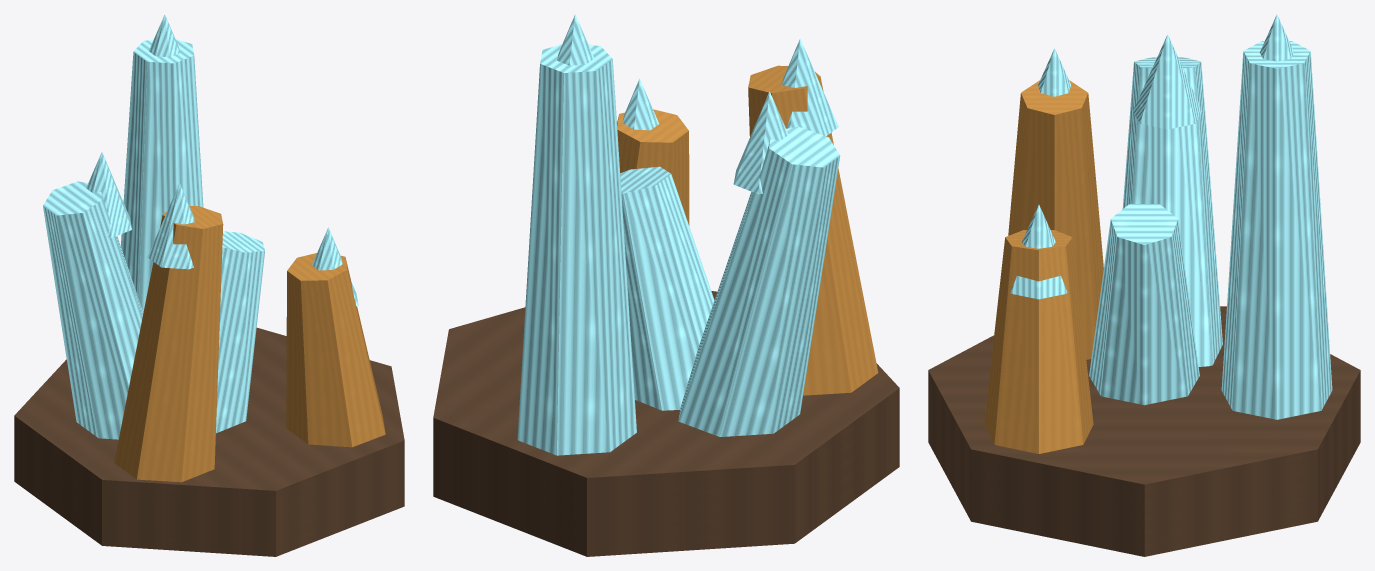
The model's file is atlas100-s013-a04.lod1.glb.
3 views of the same model, side by side, from view 1: azimuth 30°, elevation 25°; view 2: azimuth 150°, elevation 25°; view 3: azimuth 270°, elevation 25° (orthographic). The views are drawn at different scales.
Parts seen in each view (by area): view 1: atlas100-s013-a04:part-000, atlas100-s013-a04:part-003, atlas100-s013-a04:part-009, atlas100-s013-a04:part-007, atlas100-s013-a04:part-005, atlas100-s013-a04:part-001, atlas100-s013-a04:part-004, atlas100-s013-a04:part-010, atlas100-s013-a04:part-008, atlas100-s013-a04:part-006; view 2: atlas100-s013-a04:part-000, atlas100-s013-a04:part-005, atlas100-s013-a04:part-009, atlas100-s013-a04:part-001, atlas100-s013-a04:part-003, atlas100-s013-a04:part-007, atlas100-s013-a04:part-004, atlas100-s013-a04:part-010, atlas100-s013-a04:part-006, atlas100-s013-a04:part-008; view 3: atlas100-s013-a04:part-000, atlas100-s013-a04:part-005, atlas100-s013-a04:part-007, atlas100-s013-a04:part-001, atlas100-s013-a04:part-003, atlas100-s013-a04:part-009, atlas100-s013-a04:part-010, atlas100-s013-a04:part-008, atlas100-s013-a04:part-004, atlas100-s013-a04:part-006.
Part boxes in pixels (<box>): atlas100-s013-a04:part-000: <box>14,327,404,556</box>; atlas100-s013-a04:part-003: <box>114,206,223,482</box>; atlas100-s013-a04:part-009: <box>43,181,143,439</box>; atlas100-s013-a04:part-007: <box>286,253,385,447</box>; atlas100-s013-a04:part-005: <box>121,39,203,312</box>; atlas100-s013-a04:part-001: <box>216,231,264,433</box>; atlas100-s013-a04:part-004: <box>147,183,194,269</box>; atlas100-s013-a04:part-010: <box>86,152,131,237</box>; atlas100-s013-a04:part-008: <box>312,227,358,306</box>; atlas100-s013-a04:part-006: <box>149,14,179,57</box>; atlas100-s013-a04:part-000: <box>433,291,899,556</box>; atlas100-s013-a04:part-005: <box>517,44,636,455</box>; atlas100-s013-a04:part-009: <box>678,126,840,436</box>; atlas100-s013-a04:part-001: <box>620,166,714,410</box>; atlas100-s013-a04:part-003: <box>748,65,878,395</box>; atlas100-s013-a04:part-007: <box>617,109,689,225</box>; atlas100-s013-a04:part-004: <box>782,38,838,136</box>; atlas100-s013-a04:part-010: <box>733,91,788,194</box>; atlas100-s013-a04:part-006: <box>557,14,594,65</box>; atlas100-s013-a04:part-008: <box>622,79,659,130</box>; atlas100-s013-a04:part-000: <box>928,306,1360,556</box>; atlas100-s013-a04:part-005: <box>1221,41,1332,419</box>; atlas100-s013-a04:part-007: <box>984,230,1093,453</box>; atlas100-s013-a04:part-001: <box>1089,204,1199,405</box>; atlas100-s013-a04:part-003: <box>1008,80,1103,359</box>; atlas100-s013-a04:part-009: <box>1122,57,1222,366</box>; atlas100-s013-a04:part-010: <box>1133,34,1201,129</box>; atlas100-s013-a04:part-008: <box>1010,204,1067,299</box>; atlas100-s013-a04:part-004: <box>1038,48,1071,96</box>; atlas100-s013-a04:part-006: <box>1260,14,1294,61</box>.
Bounding box in the file's own units: 1.02 × 1.21 × 1.04.
3 materials, 3 textured.
